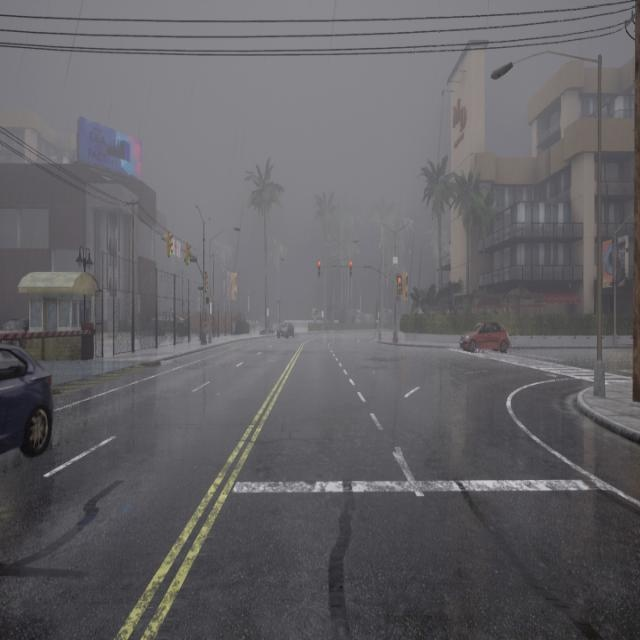bien_chi_dan: (168, 233, 173, 257), (186, 243, 191, 265), (397, 275, 402, 295), (317, 258, 322, 278), (348, 259, 353, 277), (204, 271, 208, 293), (349, 260, 352, 266), (318, 260, 321, 266), (398, 278, 401, 282), (170, 250, 172, 256), (205, 287, 208, 291), (188, 259, 190, 264)
